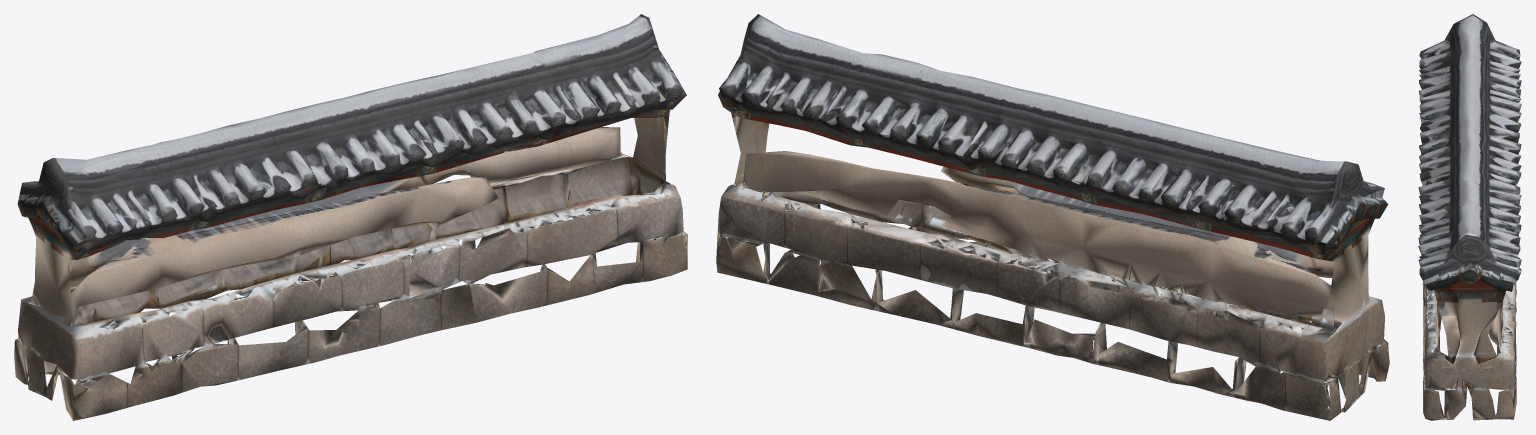
The model's file is PR_PalaceWall_02.fbx.
3 views of the same model, side by side, from view 1: azimuth 30°, elevation 25°; view 2: azimuth 150°, elevation 25°; view 3: azimuth 270°, elevation 25° (orthographic). The views are drawn at different scales.
Visible parts, largest first — view 1: texture_mapping; view 2: texture_mapping; view 3: texture_mapping.
Part boxes in pixels (box(x1,y1,x2,y2)): texture_mapping: box(14, 14, 687, 420); texture_mapping: box(716, 14, 1389, 420); texture_mapping: box(1418, 14, 1521, 420).
Bounding box in the file's own units: 0.9986 × 0.1906 × 0.3709.
1 material, 1 textured.
